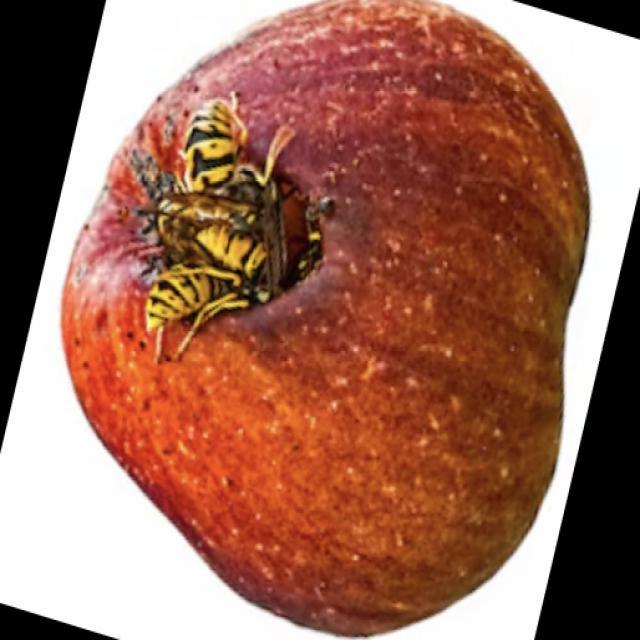Rotten: (97, 5, 578, 620)
